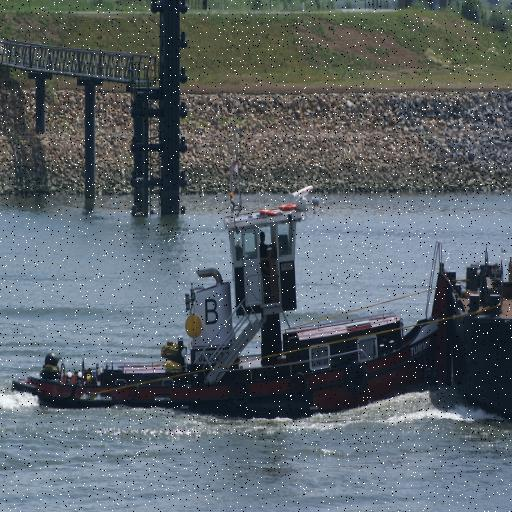tugboat: (8, 182, 466, 433)
